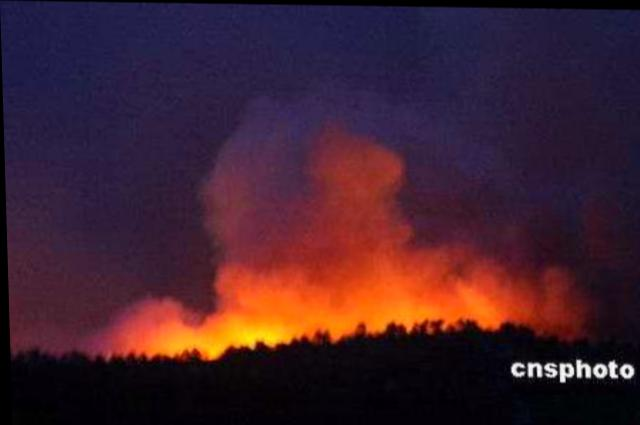fire: (112, 264, 557, 362)
